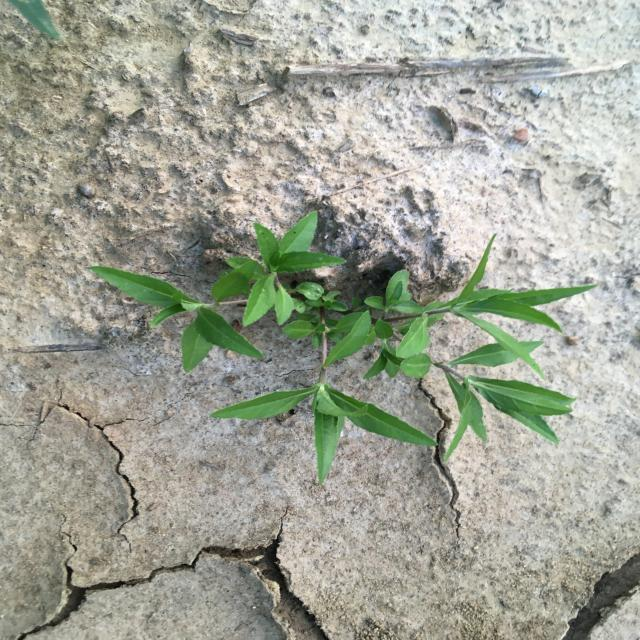Eclipta: (87, 211, 598, 486)
